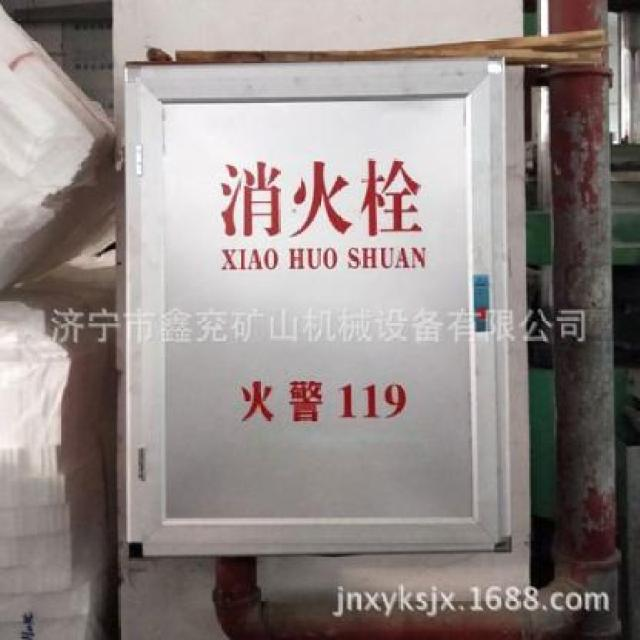firehydrant: (120, 48, 515, 566)
